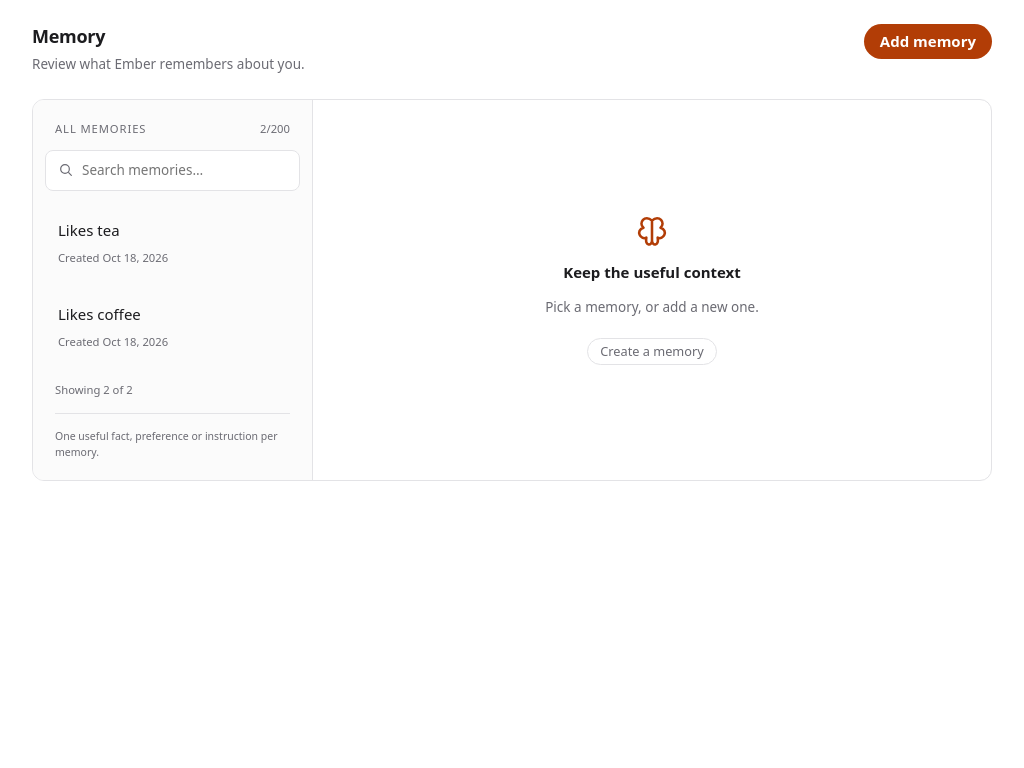
Scenario: MemoryView › asks before switching the inline editor away from an unsaved memory
This screenshot has width=1024, height=768.
Click the button with aria-label "Edit memory 1".
click(172, 326)  # box [45,287,300,365]
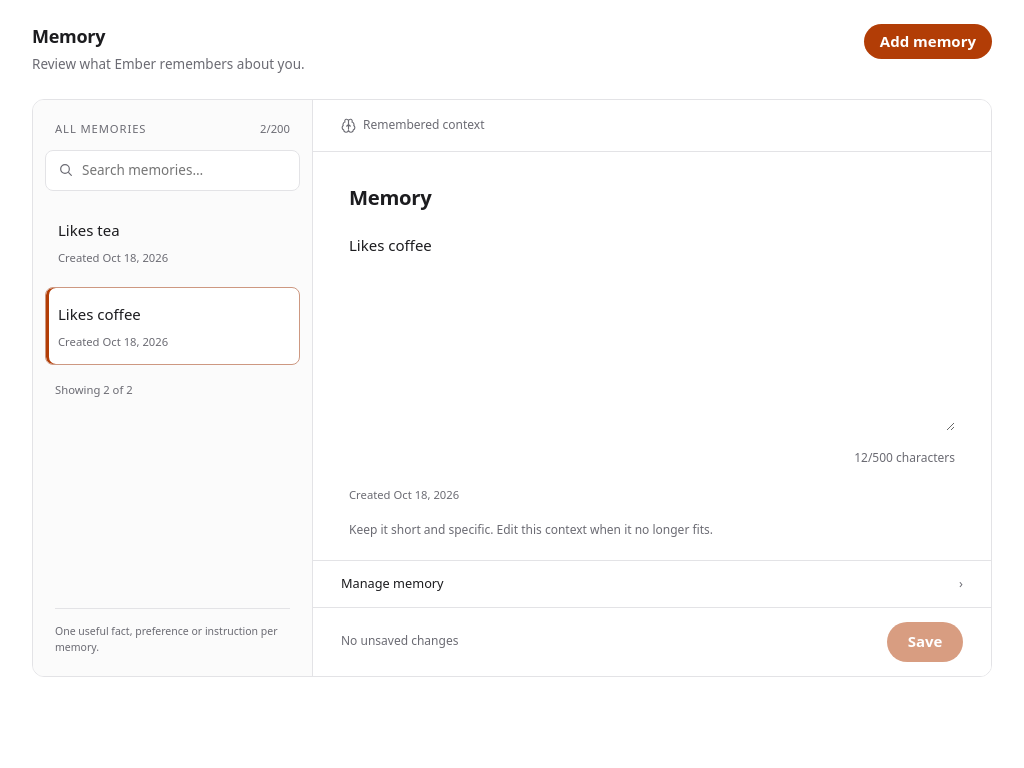
Check: the form with class "editor" is shown, box [313,100,991,676]
Replace the text in the text box labelled "Memory" with "An unsaved correction" at (652, 331), box [349,231,955,431]
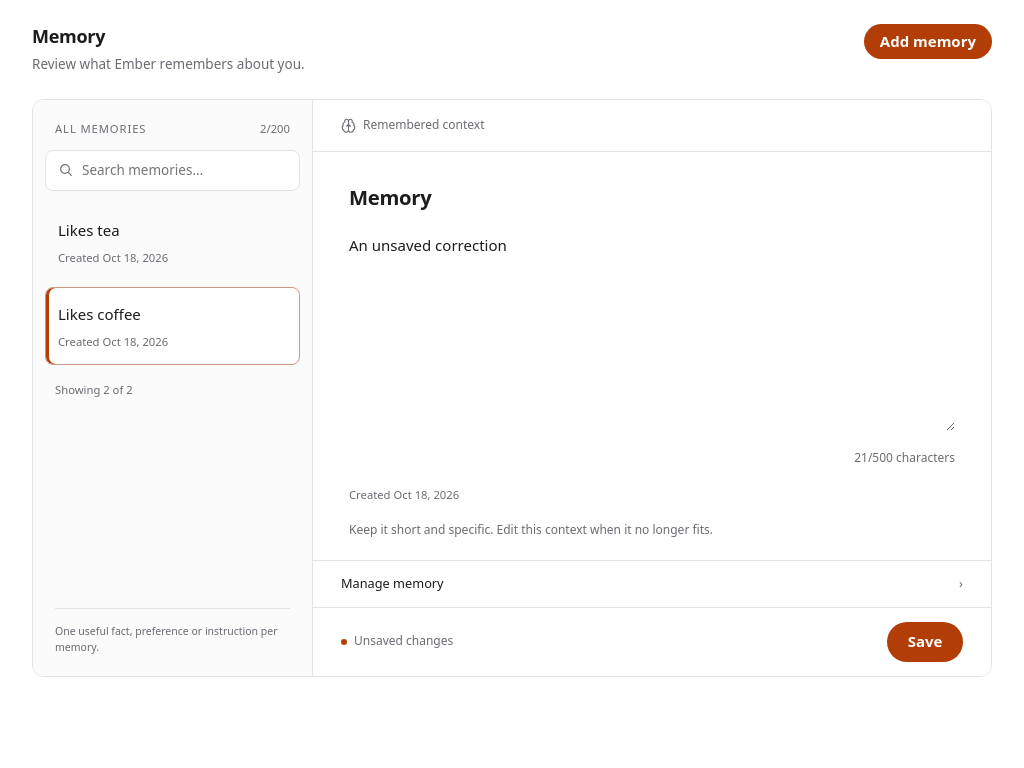
Click the button with aria-label "Edit memory 2".
click(172, 242)  # box [45,203,300,281]
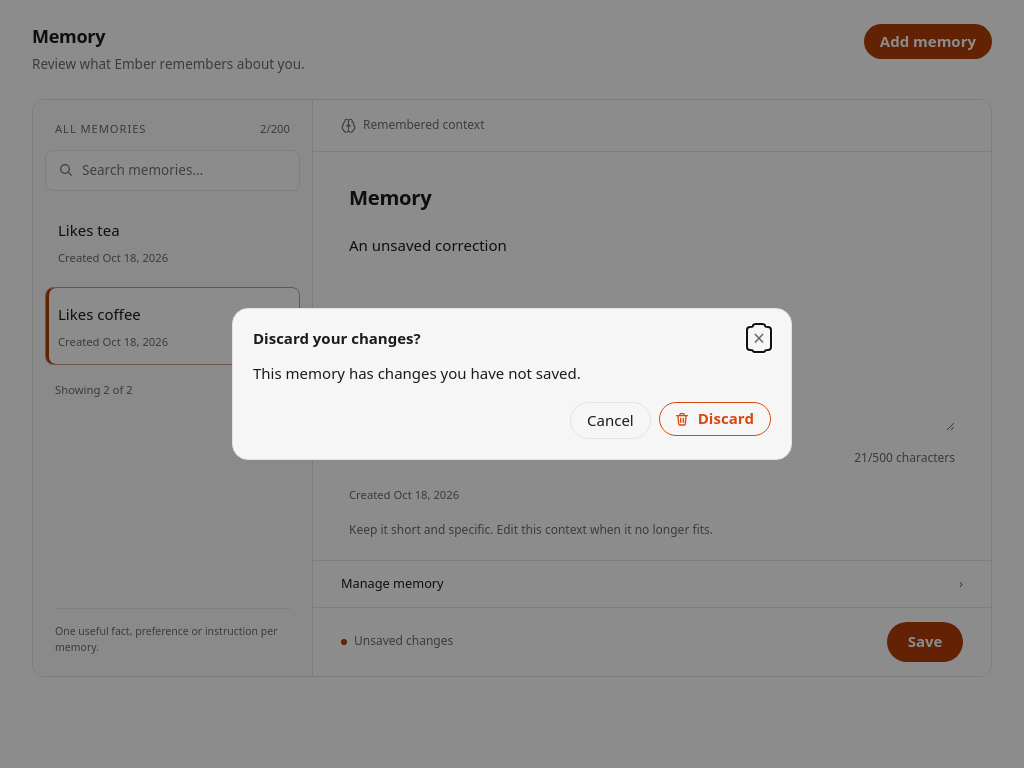
Click the button with class "cancel".
click(610, 420)  # box [570,402,651,439]
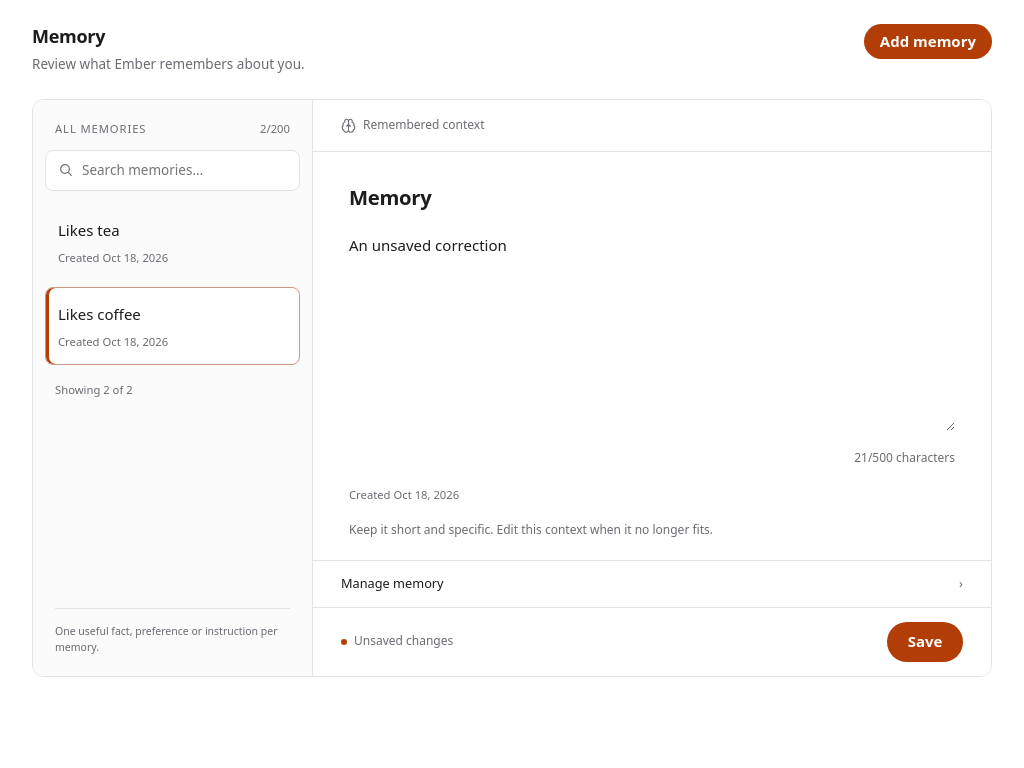
Click the button with aria-label "Edit memory 2".
click(172, 242)  # box [45,203,300,281]
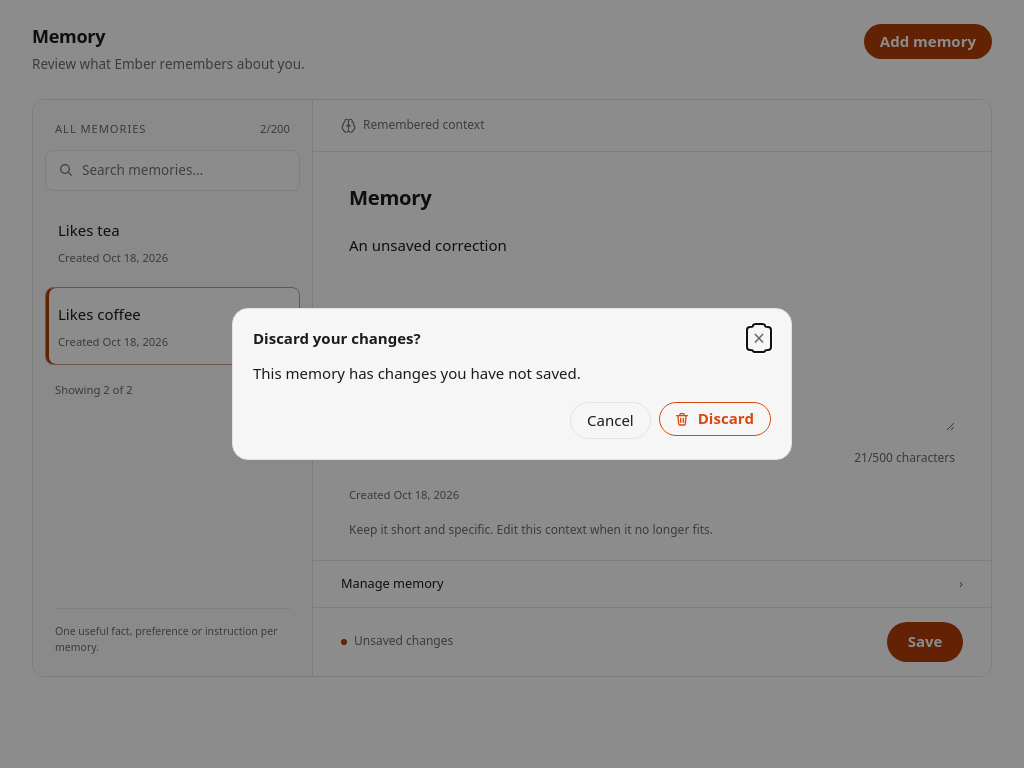
Click the button with class "confirm".
click(715, 419)  # box [659,402,771,436]
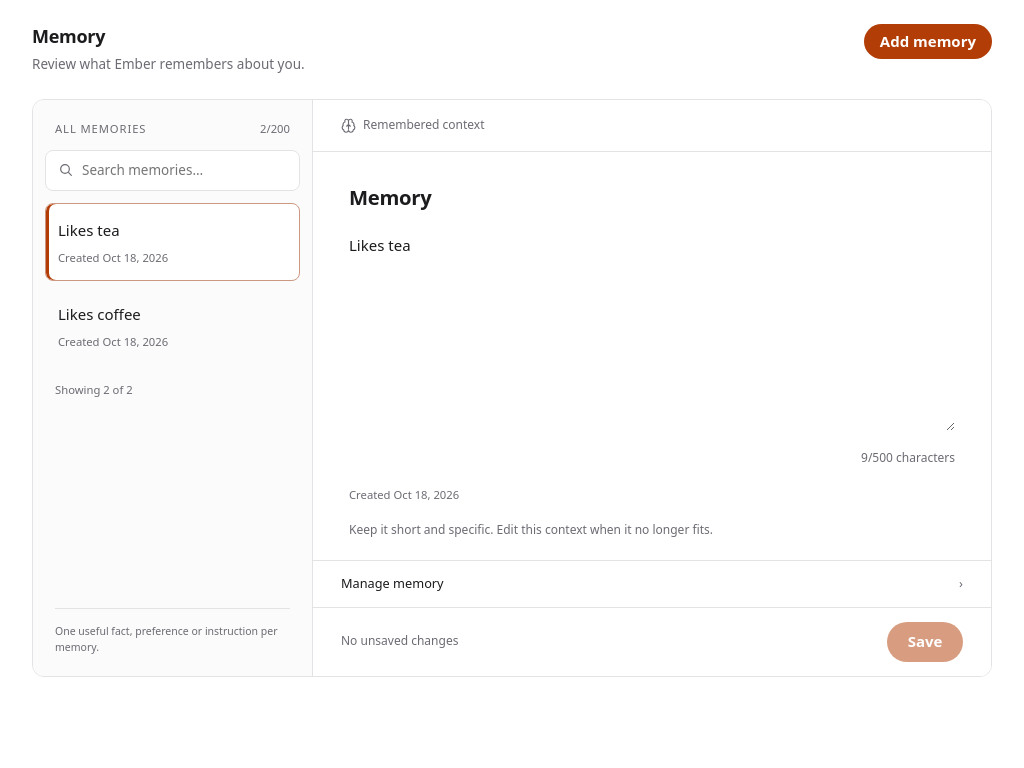
Check: the text box labelled "Memory" holds "Likes tea", box [349,231,955,431]
